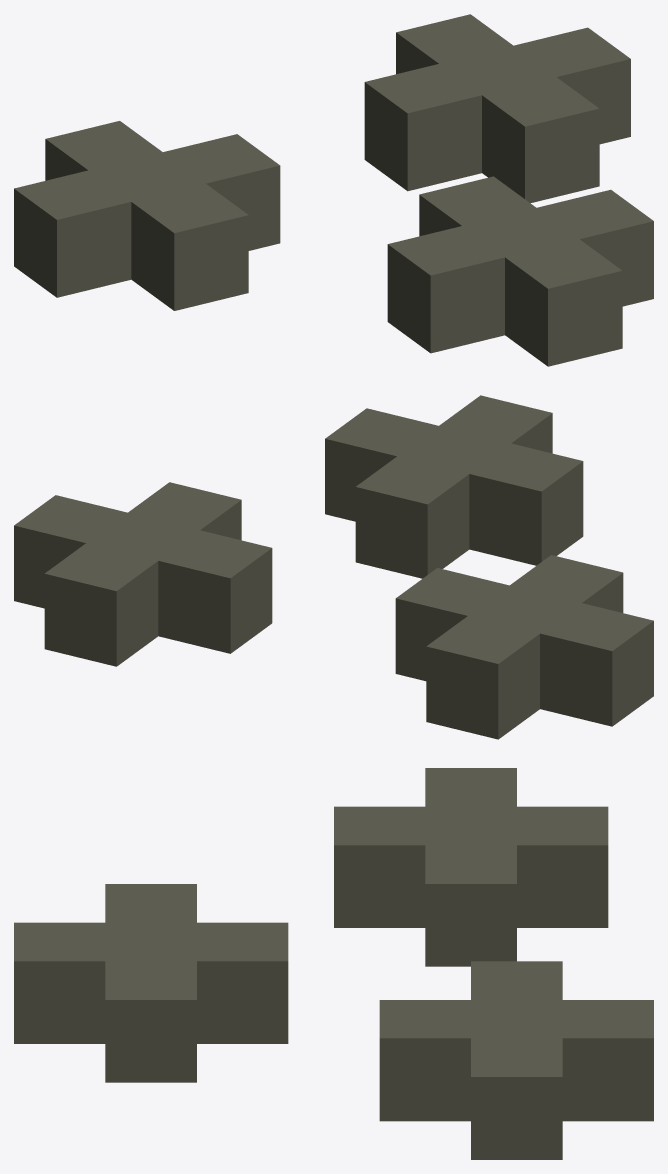
The model's file is PlainFlowers.fbx.
The picture shows the model from 3 angles, top to bottom: view 1: azimuth 30°, elevation 25°; view 2: azimuth 150°, elevation 25°; view 3: azimuth 270°, elevation 25°; orthographic projection. The views are drawn at different scales.
Visible parts, largest first — view 1: Flowers; view 2: Flowers; view 3: Flowers.
Boxes of the visible parts, bbox=[...] form: Flowers: bbox=[14, 14, 653, 366]; Flowers: bbox=[14, 395, 653, 739]; Flowers: bbox=[14, 768, 653, 1159].
Size of the model in its own units: 100 by 12.5 by 87.5.
